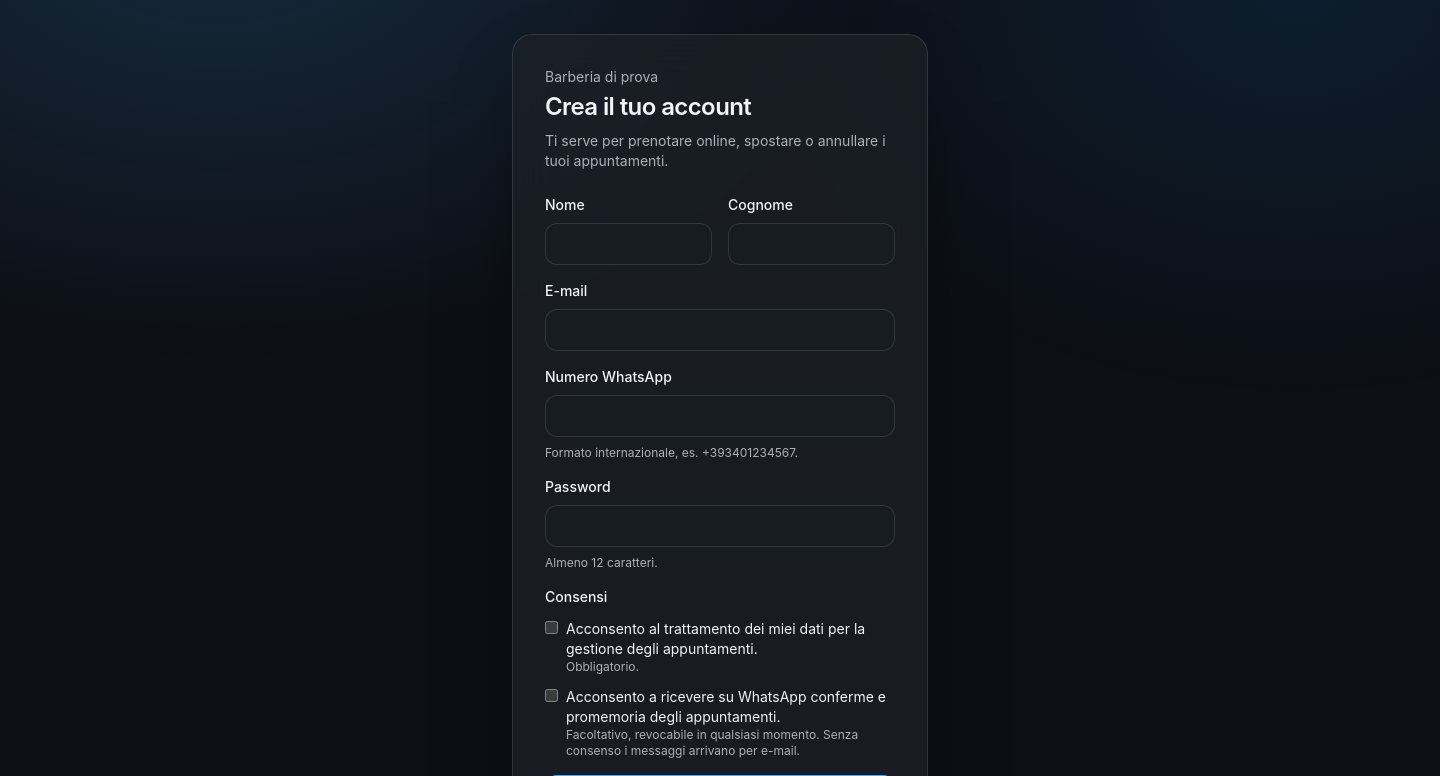
Test: PaginaRegistrazione › invia i consensi separati e poi invita a controllare la posta
Type "Marta" into the field labelled "Nome".
click(628, 244); type("Marta")  # box left=545, top=223, right=712, bottom=265
Type "Esposito" into the field labelled "Cognome".
click(812, 244); type("Esposito")  # box left=728, top=223, right=895, bottom=265
Type "marta@cliente.test" into the field labelled "E-mail".
click(720, 330); type("marta@cliente.test")  # box left=545, top=309, right=895, bottom=351
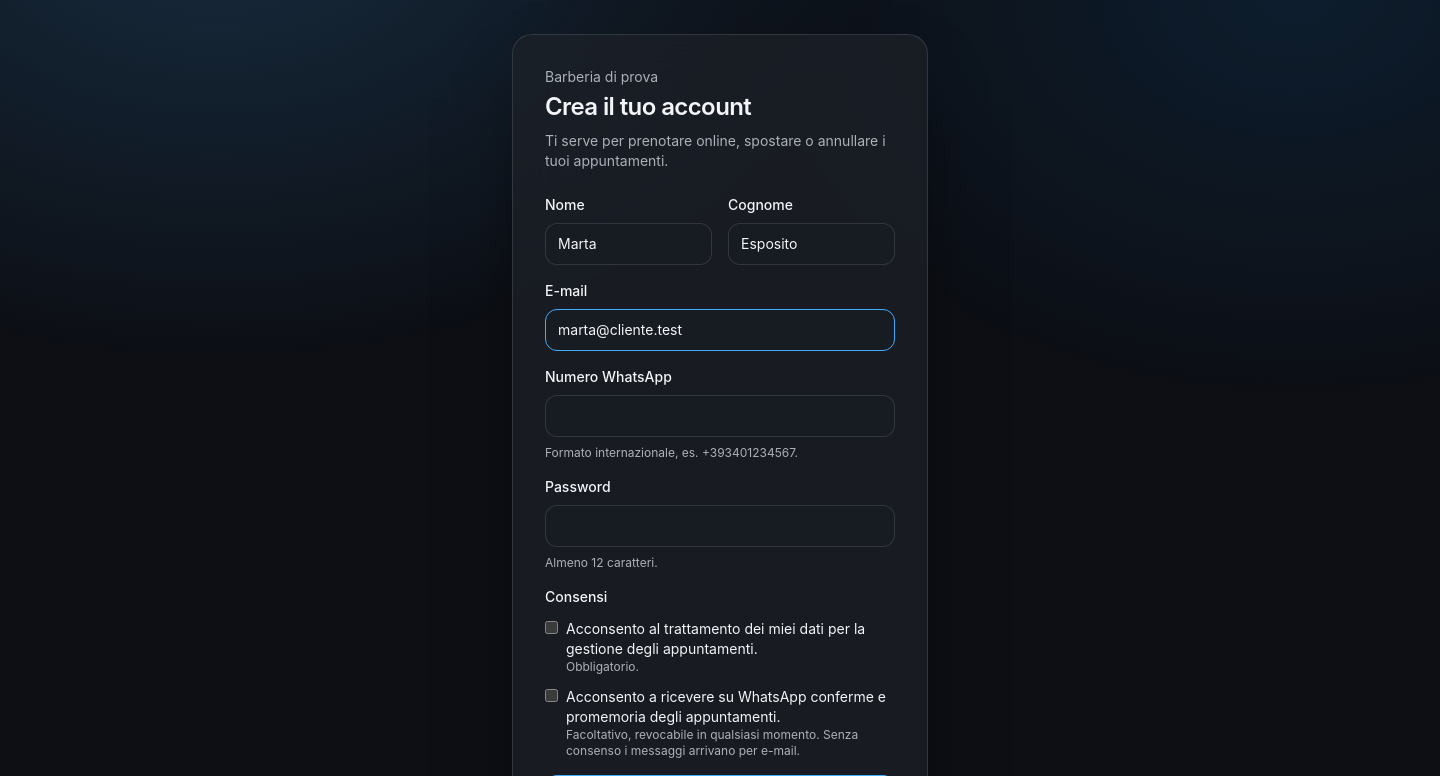
Type "+393401234567" into the field labelled "Numero WhatsApp".
click(720, 416); type("+393401234567")  # box left=545, top=395, right=895, bottom=437
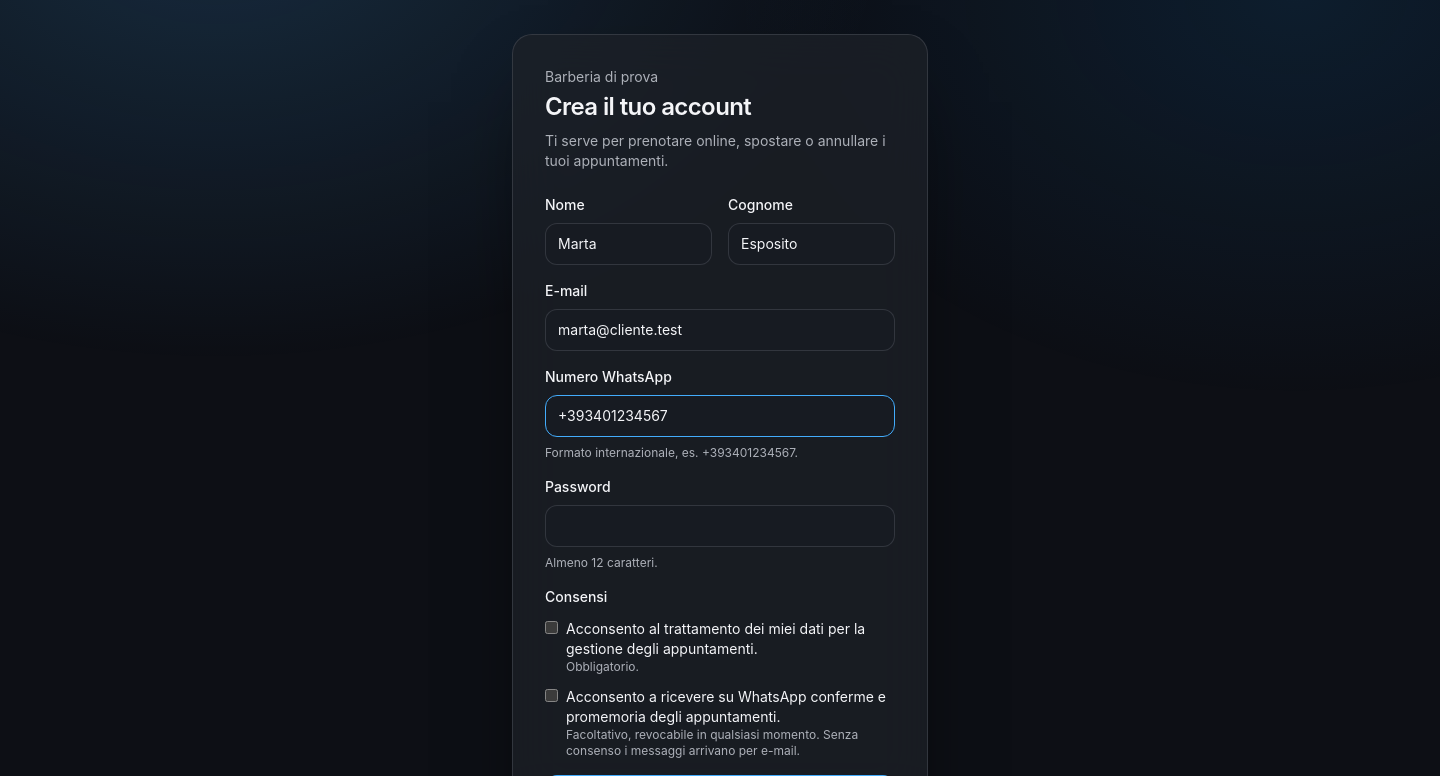
Type "password-di-prova-1" into the password field labelled "Password".
click(720, 526); type("password-di-prova-1")  # box left=545, top=505, right=895, bottom=547
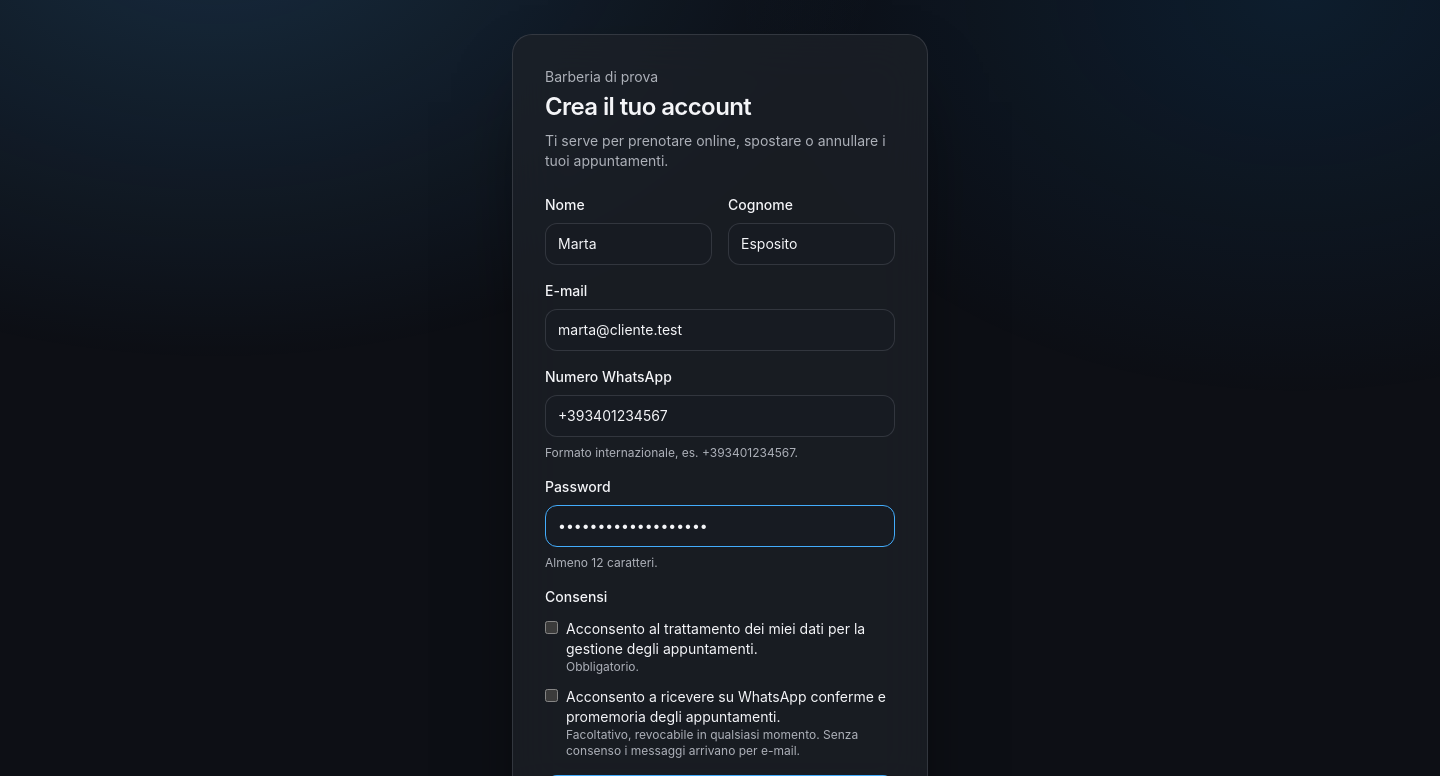
Click the checkbox labelled "trattamento dei miei dati".
click(552, 628)  # box left=545, top=621, right=558, bottom=634
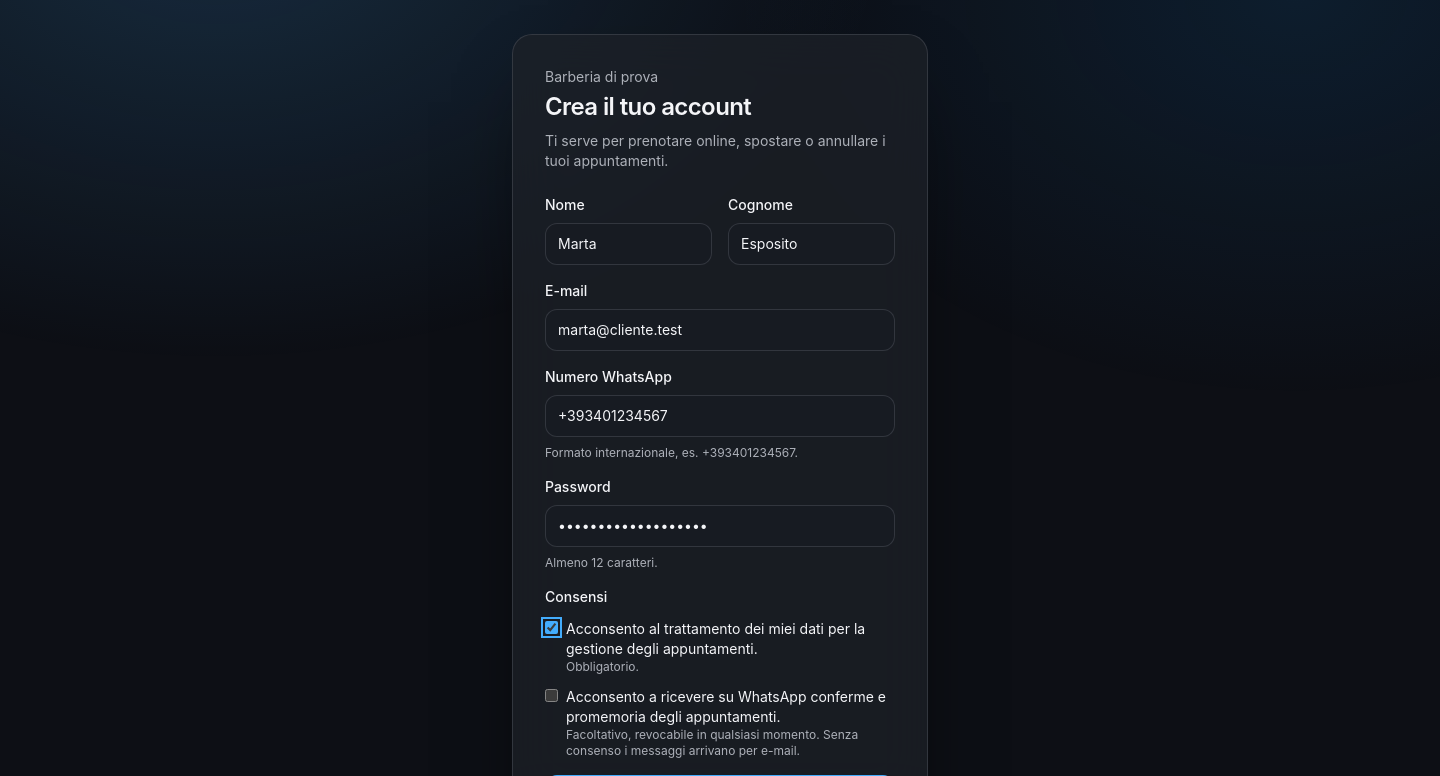
Click the checkbox labelled "WhatsApp".
click(552, 696)  # box left=545, top=689, right=558, bottom=702
(page scrolled)
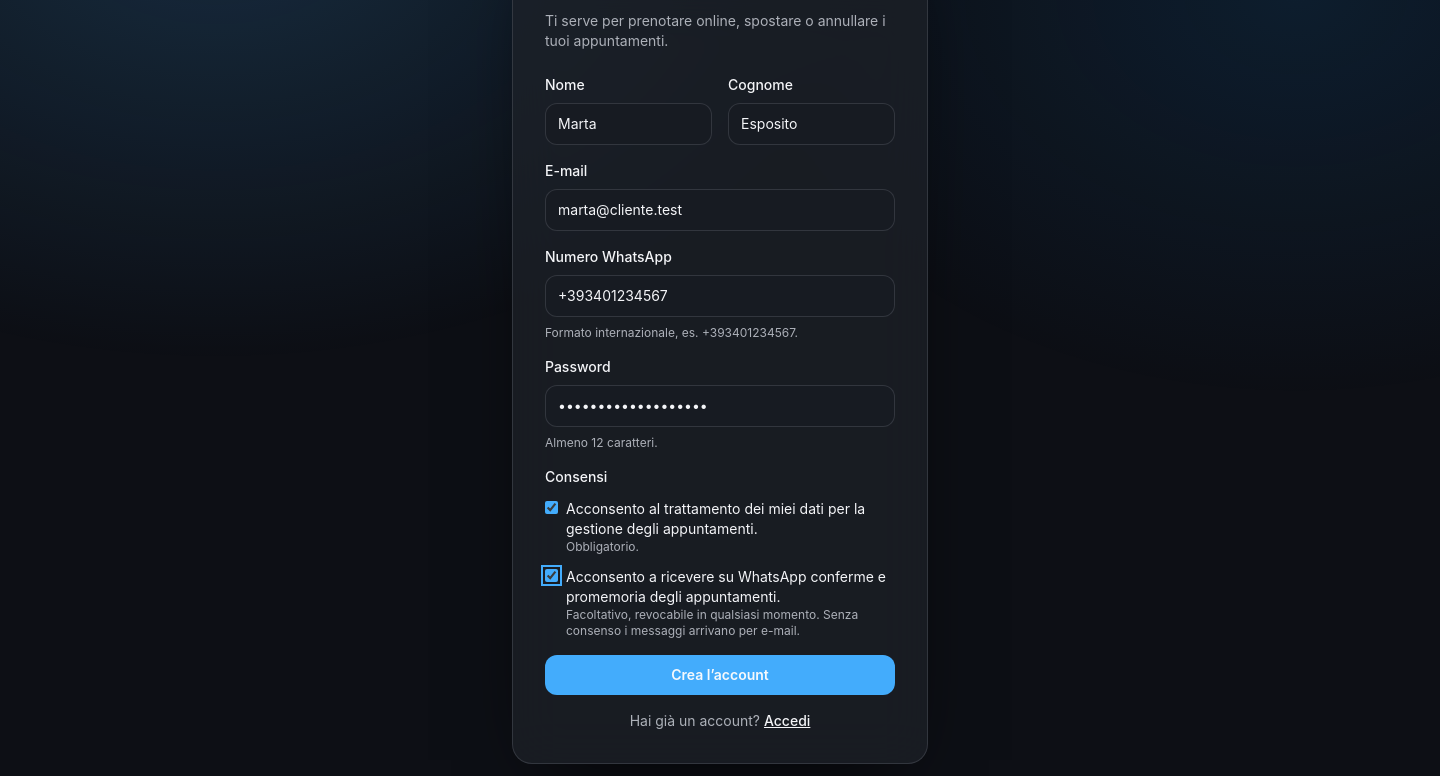
Click the button "Crea l’account".
click(720, 675)  # box left=545, top=655, right=895, bottom=695
(page scrolled)
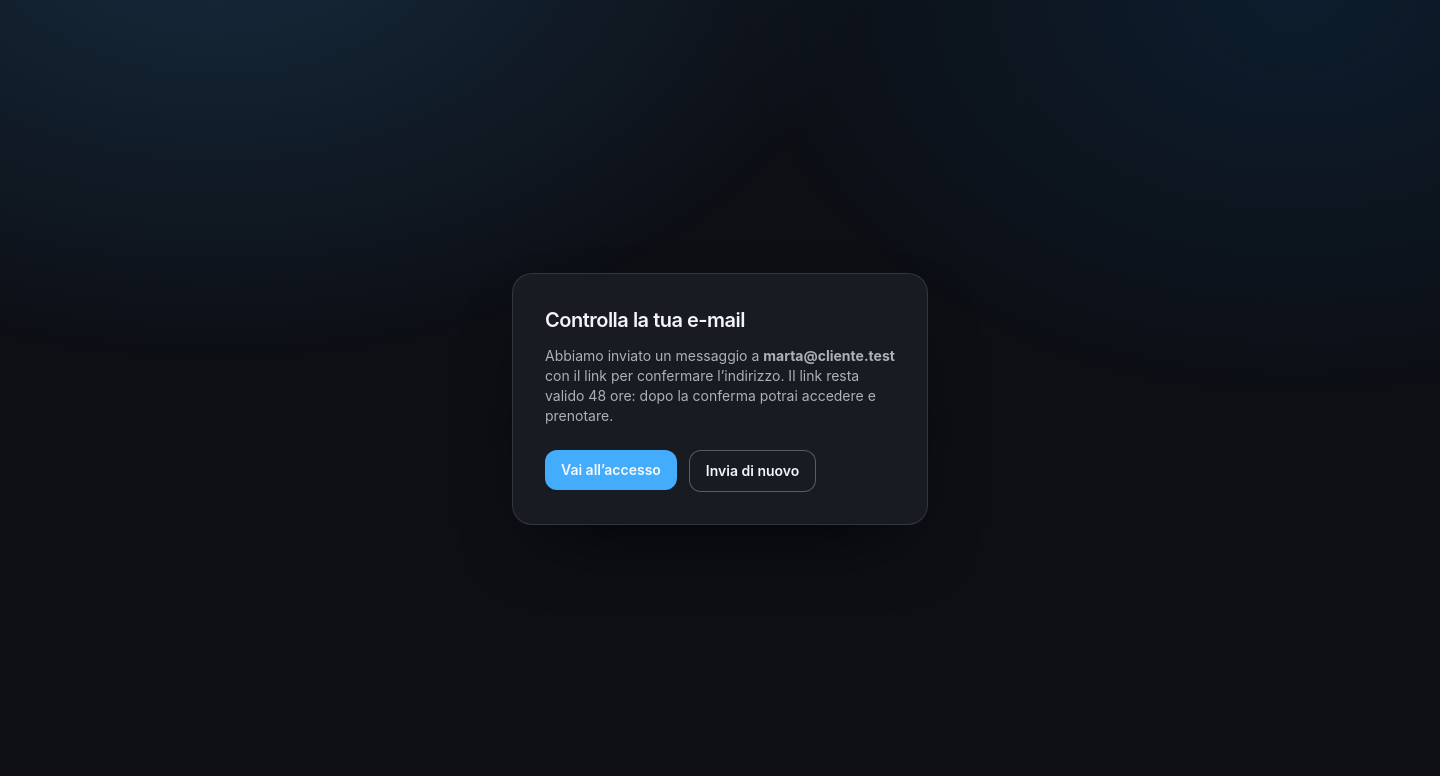
Check: the heading "Controlla la tua e-mail" is shown, box left=545, top=308, right=745, bottom=332
